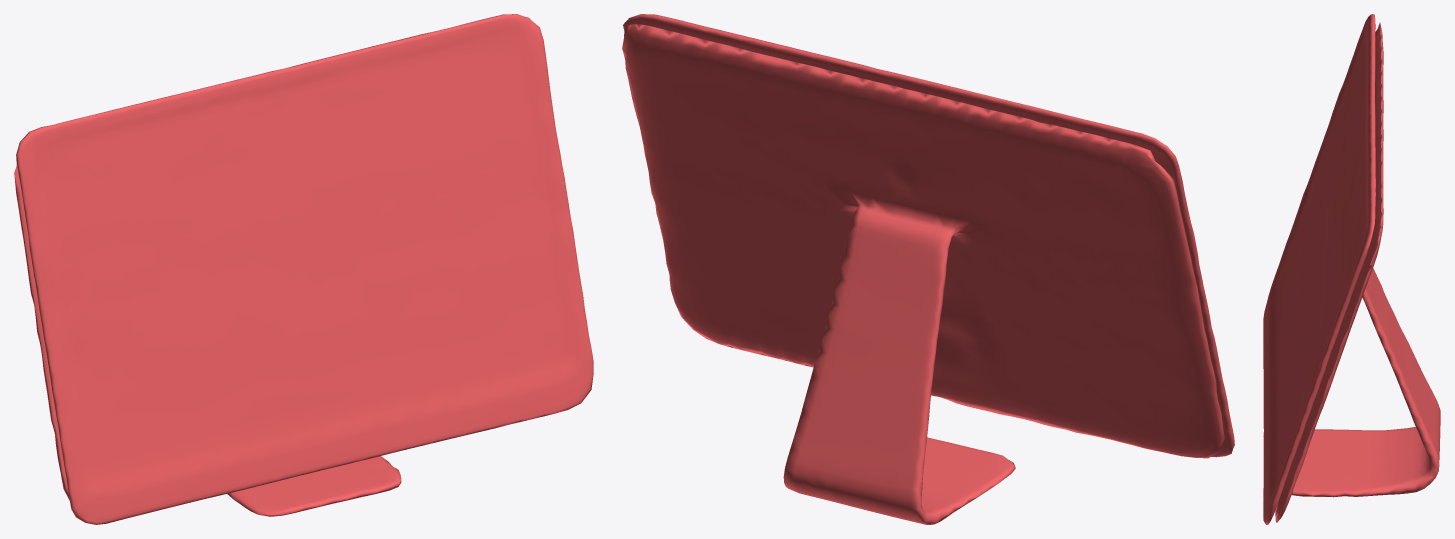
File: desktop_hero.glb
The picture shows the model from 3 angles, left to right: view 1: azimuth 30°, elevation 25°; view 2: azimuth 150°, elevation 25°; view 3: azimuth 270°, elevation 25°; orthographic projection. The views are drawn at different scales.
Visible parts, largest first — view 1: Mesh1.001; view 2: Mesh1.001; view 3: Mesh1.001.
Part boxes in pixels (x1,y1,x2,y2): Mesh1.001: (14,14,593,524); Mesh1.001: (622,14,1234,524); Mesh1.001: (1263,14,1440,524).
Size of the model in its own units: 1.52 by 1.09 by 0.5083.
